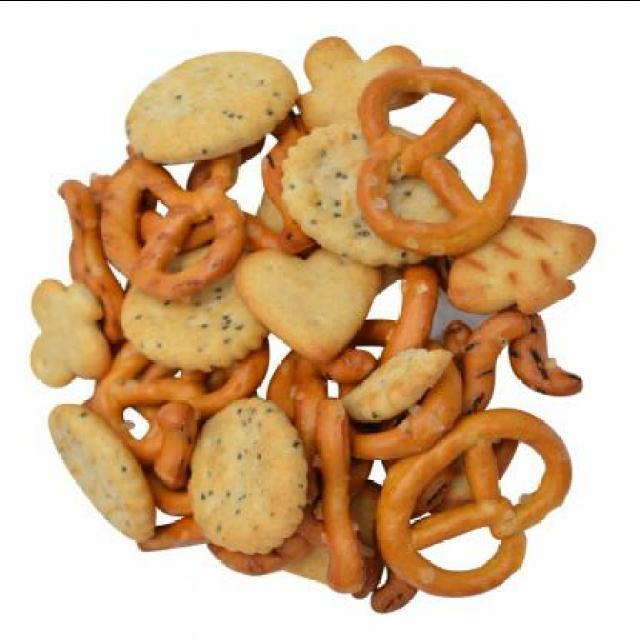Salatini packaged: (43, 29, 600, 597)
